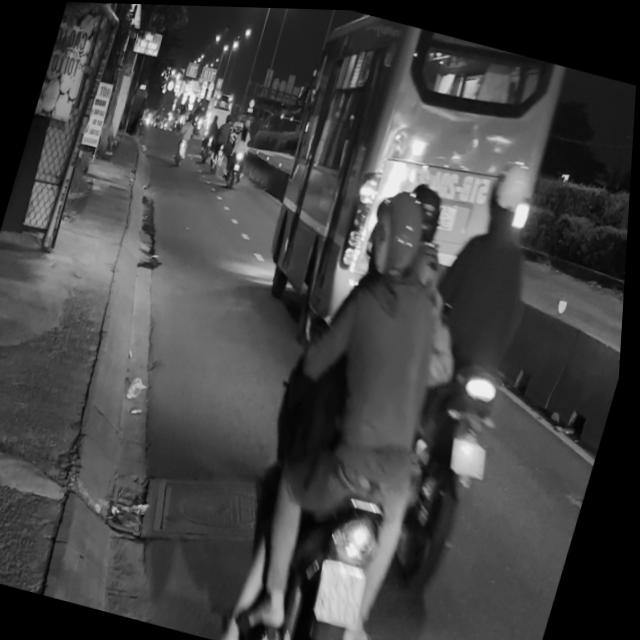helmet: (355, 178, 437, 293), (481, 150, 543, 236)
licenseplate: (203, 134, 517, 640), (348, 140, 581, 625)
nohelmet: (314, 553, 380, 627), (450, 431, 497, 475)
